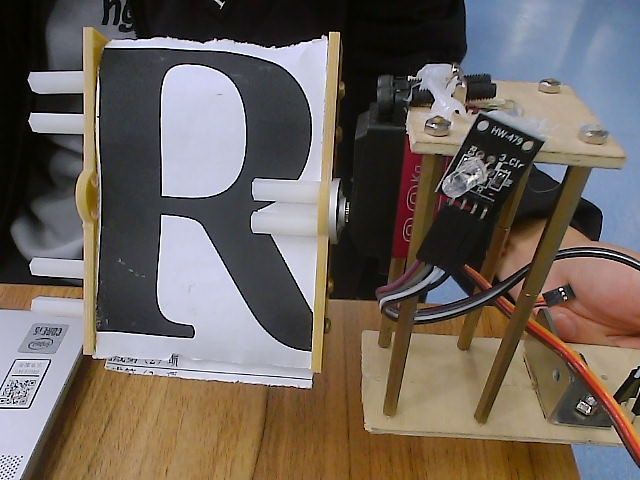R: (22, 10, 383, 403)
